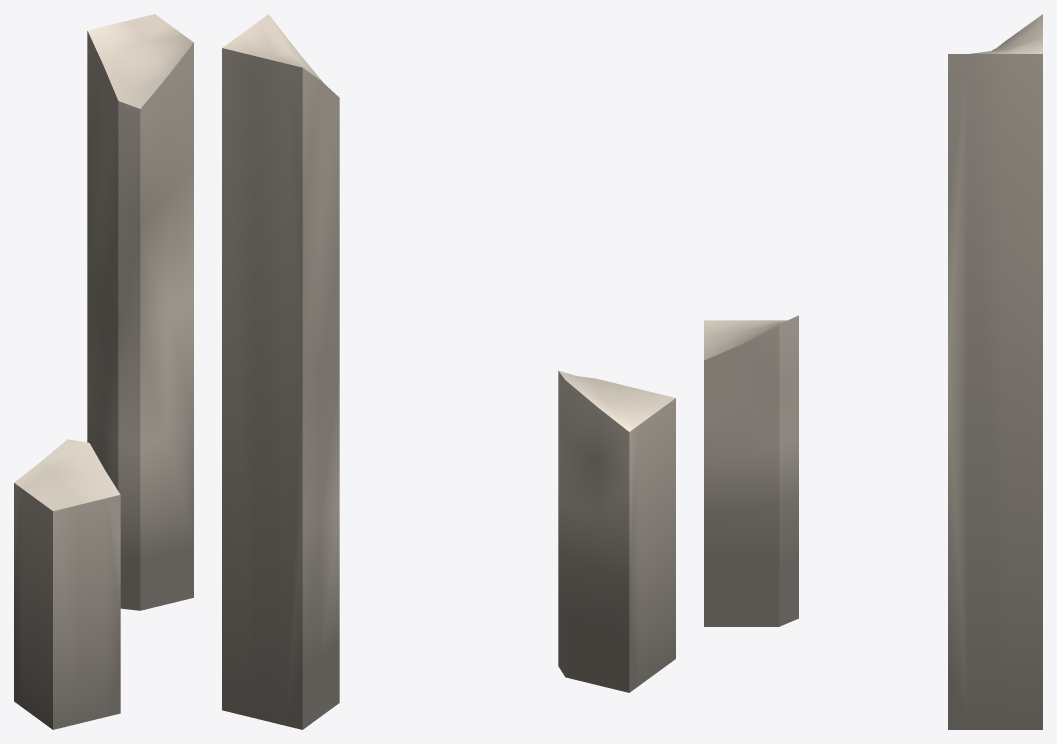
File: SM_VKI_Rock_Cave_COFO_WallEW.fbx
3 renders of one model, left to right at view 1: azimuth 30°, elevation 25°; view 2: azimuth 150°, elevation 25°; view 3: azimuth 270°, elevation 25°, orthographic. The views are drawn at different scales.
Parts seen in each view (by area): view 1: SM_VKI_Rock_Cave_COFO_WallEW.001; view 2: SM_VKI_Rock_Cave_COFO_WallEW.001; view 3: SM_VKI_Rock_Cave_COFO_WallEW.001.
Part boxes in pixels (x1,y1,x2,y2): SM_VKI_Rock_Cave_COFO_WallEW.001: [14, 14, 193, 729]; SM_VKI_Rock_Cave_COFO_WallEW.001: [222, 14, 675, 729]; SM_VKI_Rock_Cave_COFO_WallEW.001: [704, 14, 1042, 729].
Size of the model in its own units: 1.5 by 3.3 by 1.5.
